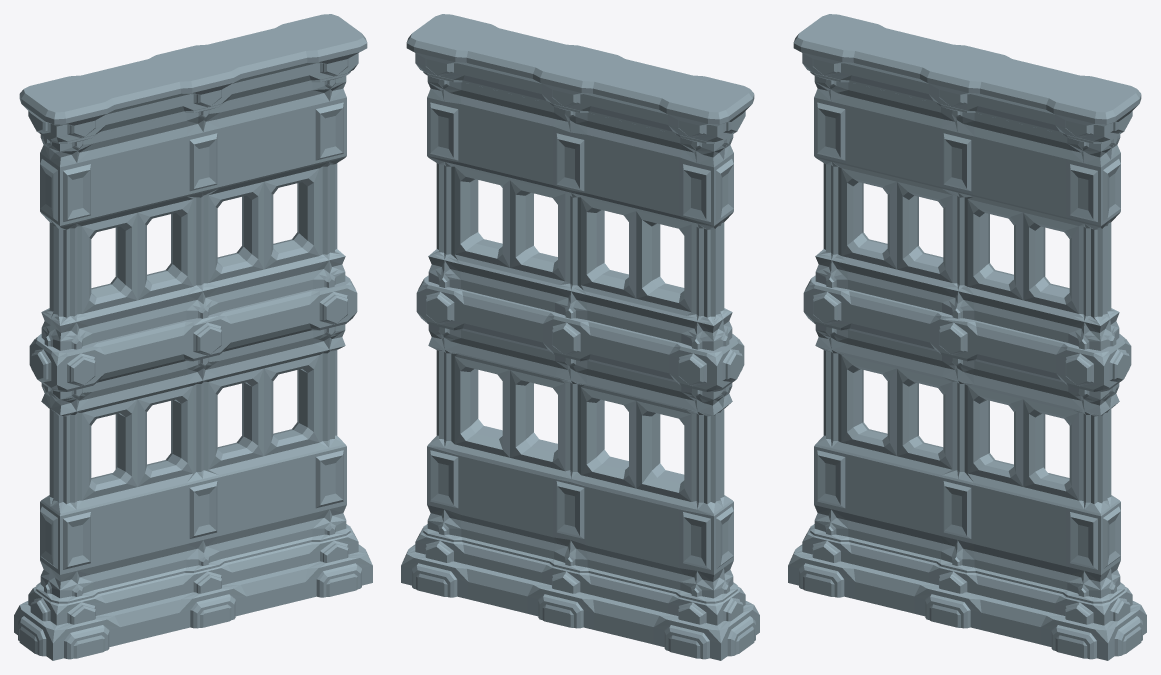
Rendered from column_wall.FBX.
The picture shows the model from 3 angles, left to right: view 1: azimuth 30°, elevation 25°; view 2: azimuth 150°, elevation 25°; view 3: azimuth 330°, elevation 25°; orthographic projection.
Parts seen in each view (by area): view 1: column_wall; view 2: column_wall; view 3: column_wall.
Boxes of the visible parts, <box> form: column_wall: <box>14,14,372,660</box>; column_wall: <box>401,14,759,660</box>; column_wall: <box>788,14,1146,660</box>.
Size of the model in its own units: 824 by 1290 by 198.
